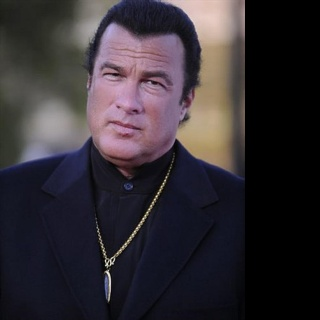without_mask: (85, 24, 185, 160)
